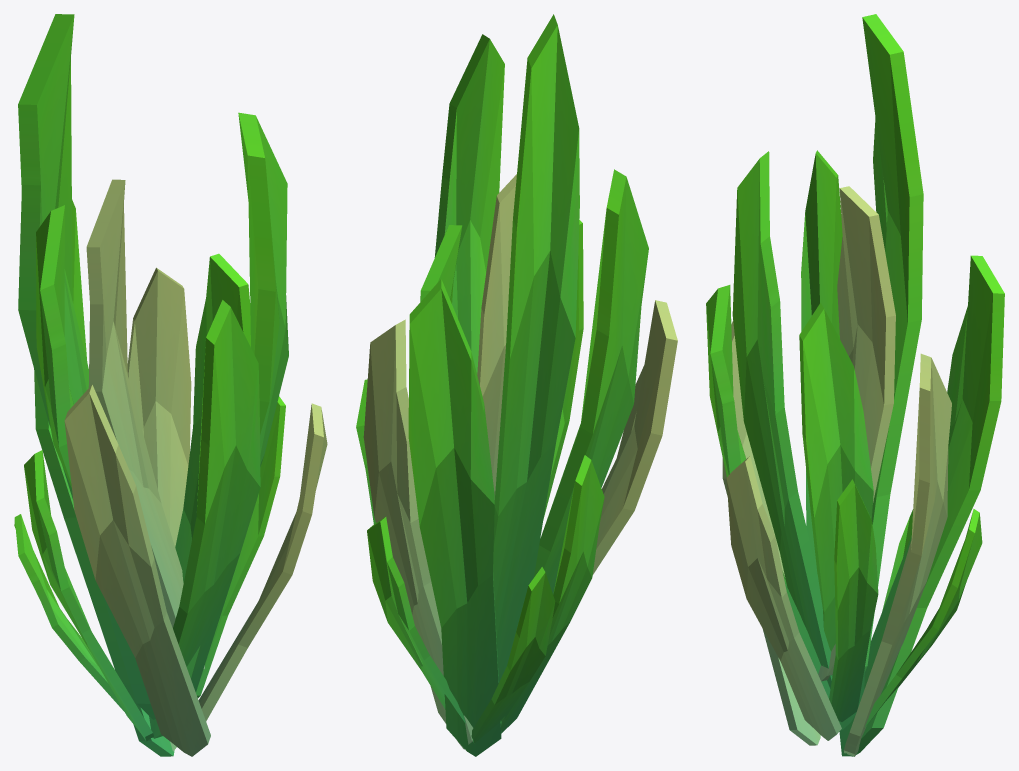
The model's file is LargeShrub.fbx.
3 renders of one model, left to right at view 1: azimuth 30°, elevation 25°; view 2: azimuth 150°, elevation 25°; view 3: azimuth 270°, elevation 25°, orthographic. The views are drawn at different scales.
Visible parts, largest first — view 1: Plane.004; view 2: Plane.004; view 3: Plane.004.
Part boxes in pixels (x1,y1,x2,y2): Plane.004: [14, 14, 327, 756]; Plane.004: [356, 14, 677, 756]; Plane.004: [706, 14, 1004, 756].
Size of the model in its own units: 154 by 421 by 162.
